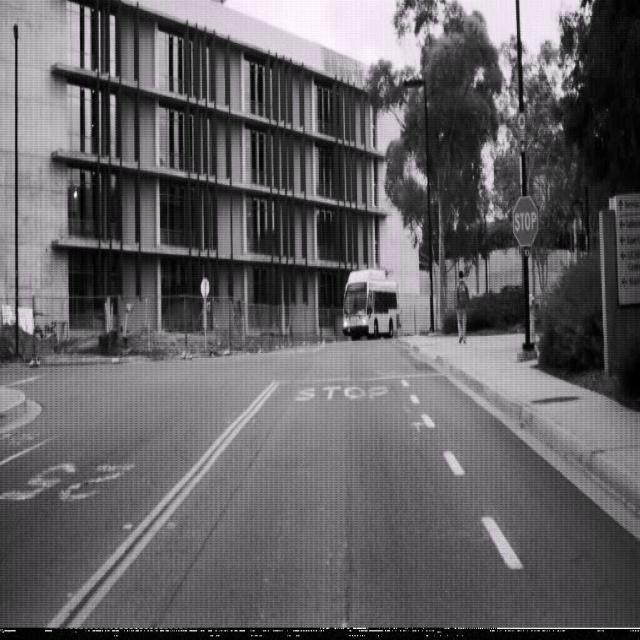stop_sign: (512, 195, 539, 248)
